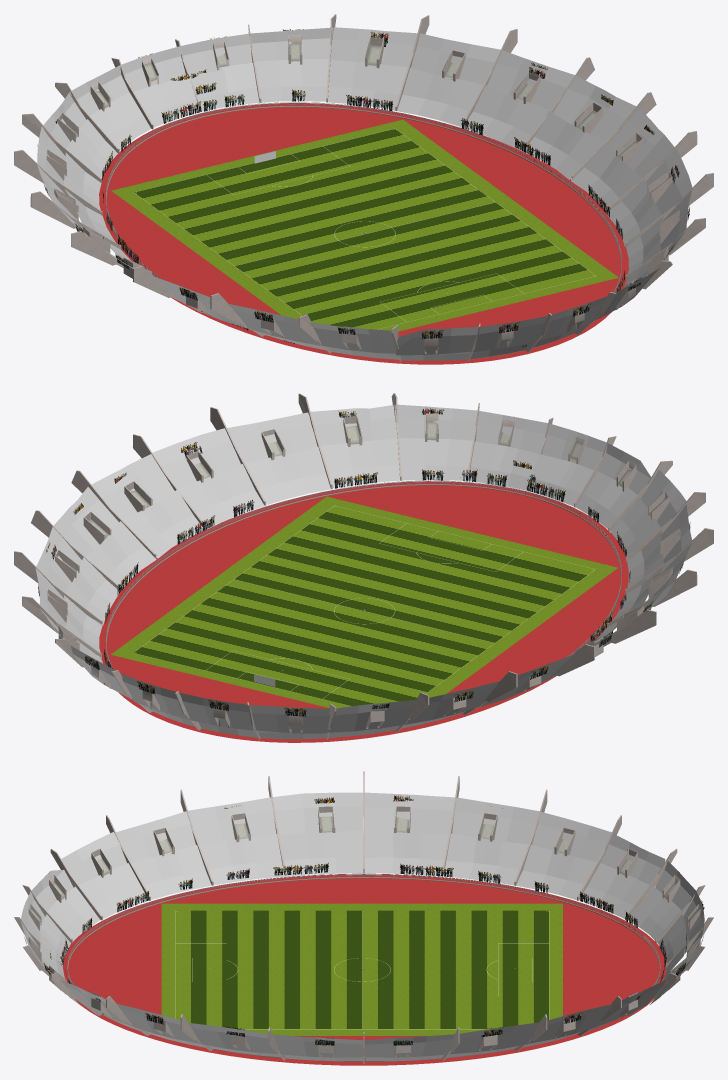
The model's file is Audience.FBX.
3 renders of one model, top to bottom at view 1: azimuth 30°, elevation 25°; view 2: azimuth 150°, elevation 25°; view 3: azimuth 270°, elevation 25°, orthographic. The views are drawn at different scales.
Parts seen in each view (by area): view 1: Audience, couryard, couryardouside, Stands_06, couryard001, Stands_16, Crownd, Stands_14, Hole, Stands_13, line; view 2: Audience, couryard, couryardouside, Stands_06, couryard001, Stands_16, Crownd, Stands_14, Hole, Stands_13, line; view 3: Audience, couryard, couryardouside, couryard001, Stands_06, Stands_16, Crownd, Stands_14, Hole, Stands_13, line.
Boxes of the visible parts, x1,y1,x2,y2 form: Audience: (37, 27, 692, 360); couryard: (134, 129, 595, 329); couryardouside: (99, 103, 628, 364); Stands_06: (14, 14, 713, 361); couryard001: (111, 119, 618, 331); Stands_16: (46, 34, 679, 353); Crownd: (37, 29, 689, 347); Stands_14: (106, 102, 621, 292); Hole: (65, 42, 664, 192); Stands_13: (106, 106, 621, 360); line: (134, 128, 595, 329); Audience: (35, 404, 692, 739); couryard: (134, 506, 595, 706); couryardouside: (99, 481, 628, 742); Stands_06: (14, 393, 713, 740); couryard001: (111, 496, 617, 708); Stands_16: (47, 413, 680, 732); Crownd: (38, 408, 690, 716); Stands_14: (106, 480, 622, 668); Hole: (62, 421, 662, 571); Stands_13: (106, 484, 621, 668); line: (133, 505, 595, 705); Audience: (21, 792, 704, 1061); couryard: (175, 910, 548, 1028); couryardouside: (62, 874, 666, 1065); couryard001: (161, 903, 562, 1035); Stands_06: (14, 771, 713, 1063); Stands_16: (28, 806, 700, 1057); Crownd: (24, 795, 704, 1045); Stands_14: (67, 873, 660, 1059); Hole: (30, 816, 699, 922); Stands_13: (67, 877, 660, 1061); line: (175, 911, 549, 1029).
Bounding box in the file's own units: 20108 × 2351 × 22456.
